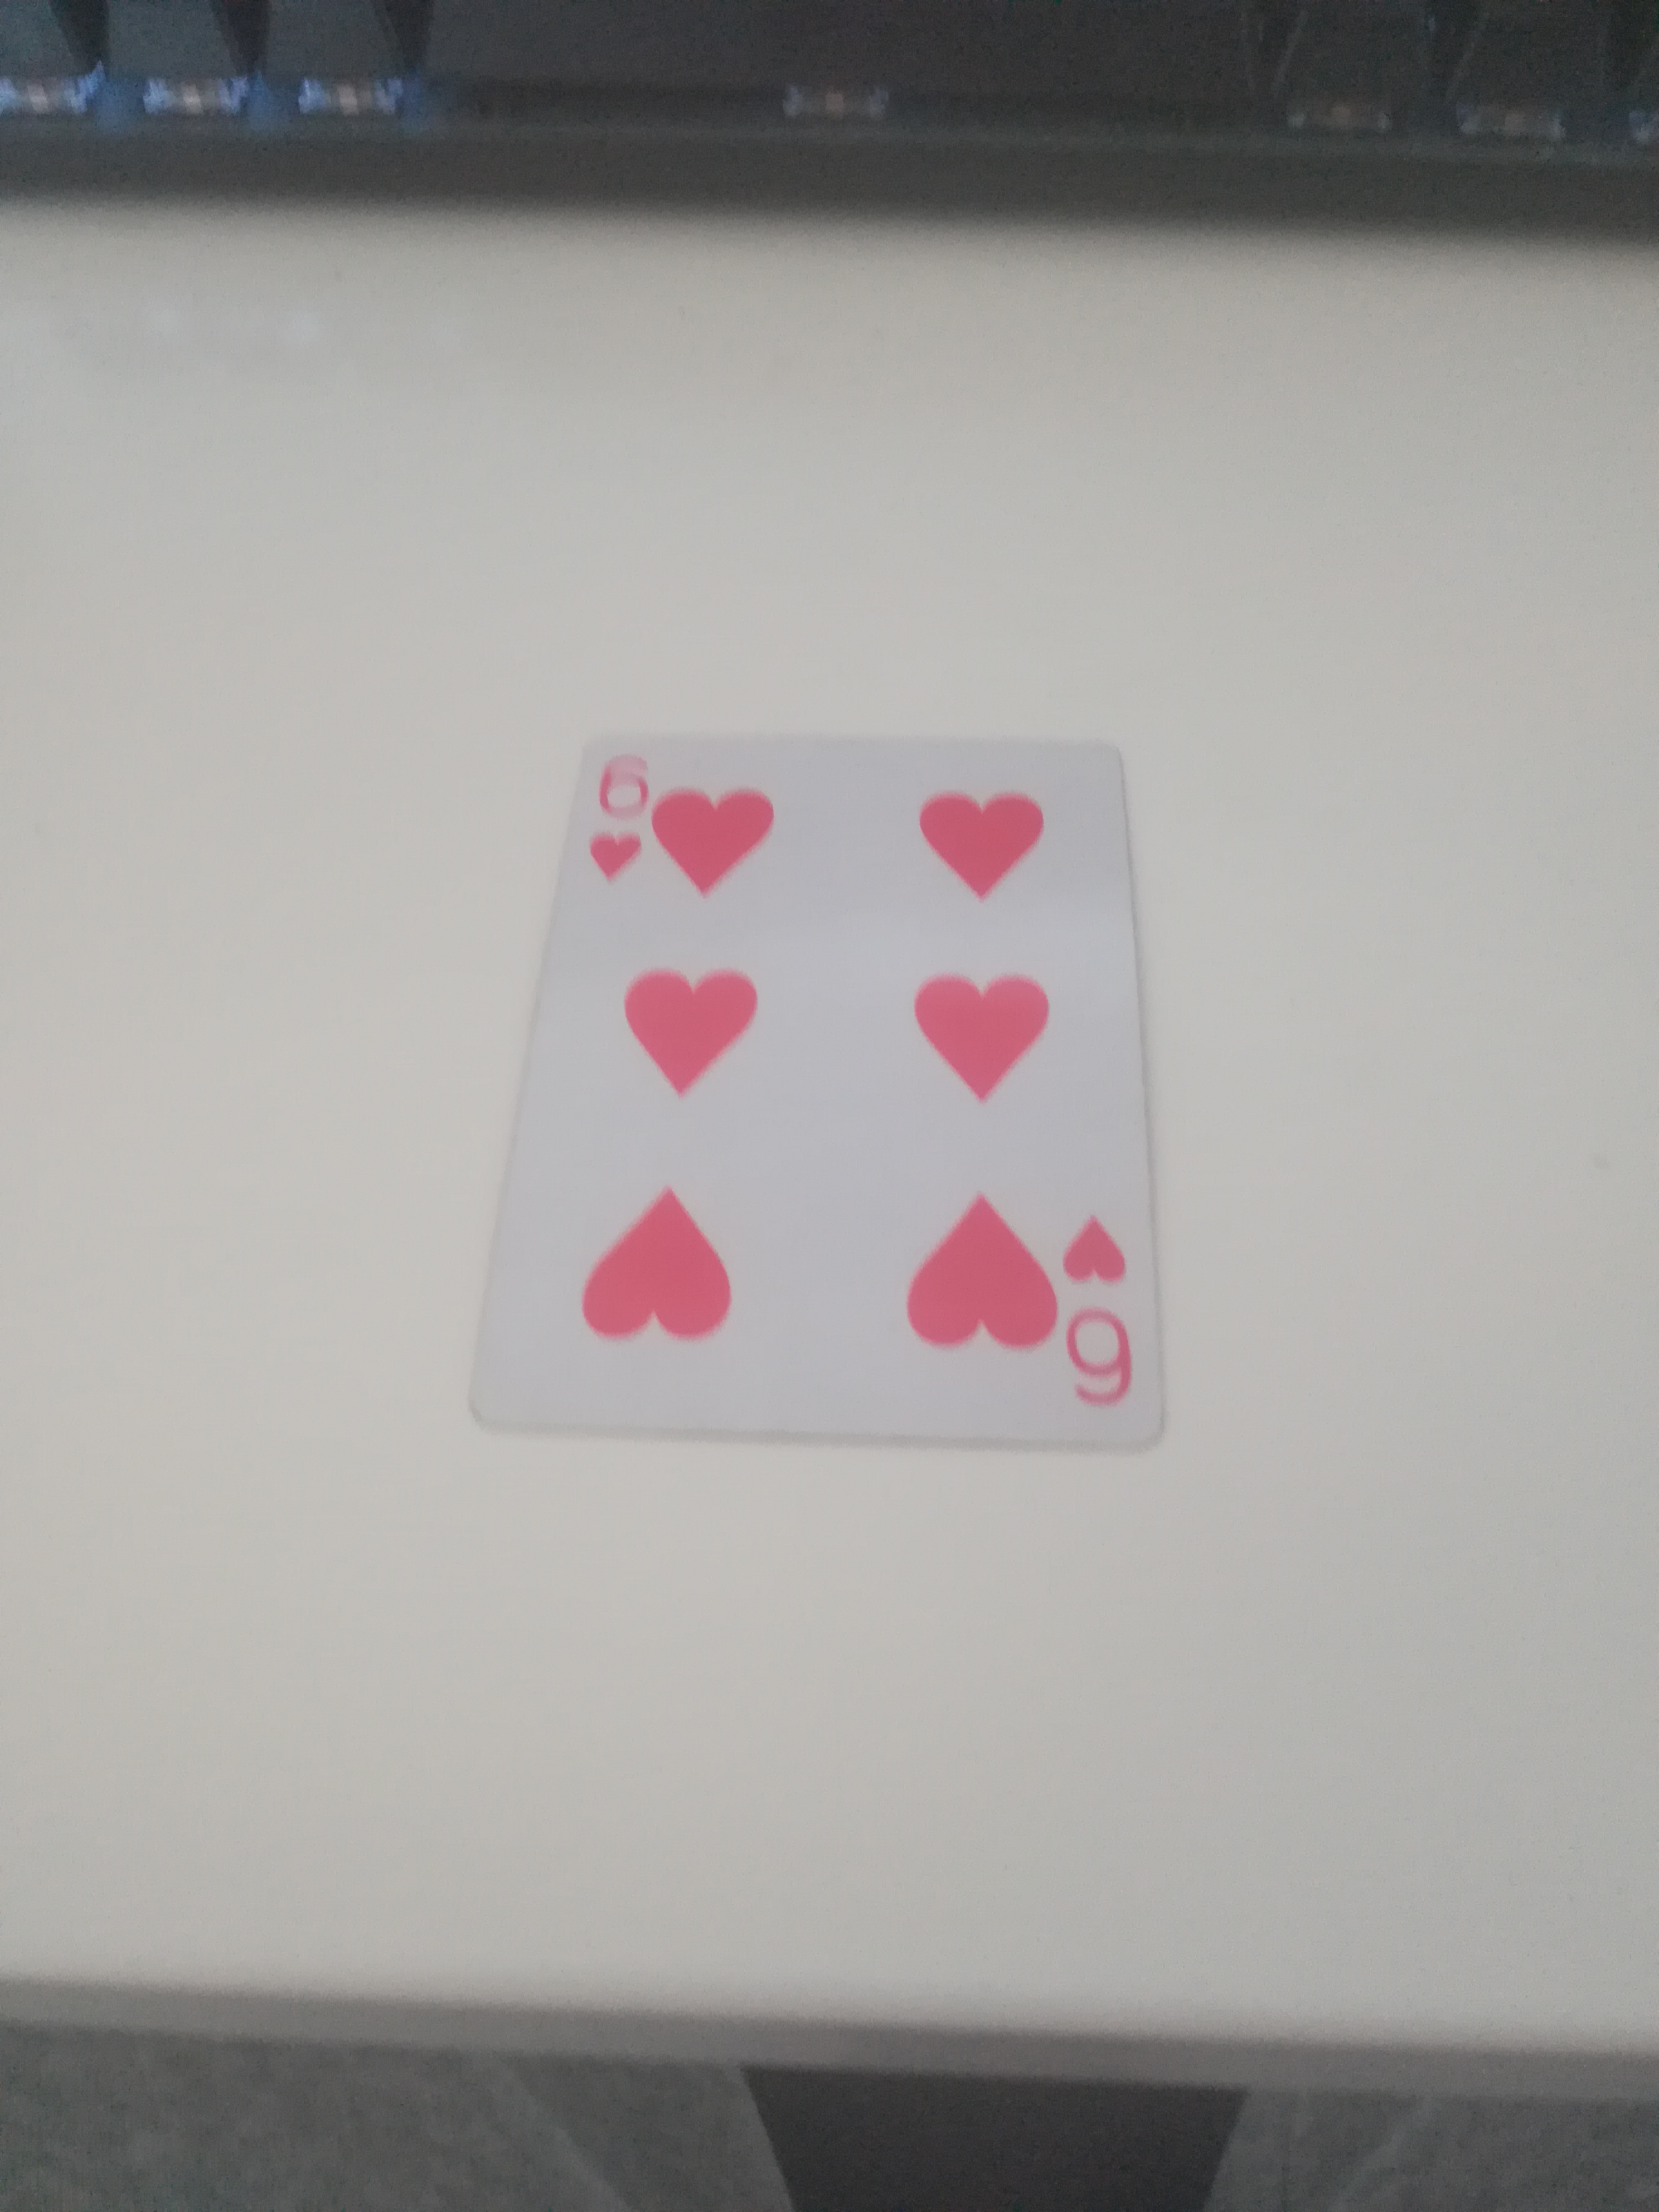6H: (471, 723, 1176, 1467)
